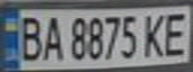5: (118, 11, 142, 60)
7: (103, 12, 124, 61)
8: (84, 14, 106, 61), (66, 12, 87, 61)
A: (39, 12, 66, 62)
B: (15, 12, 45, 62)
E: (160, 7, 193, 57)
K: (139, 10, 169, 58)
